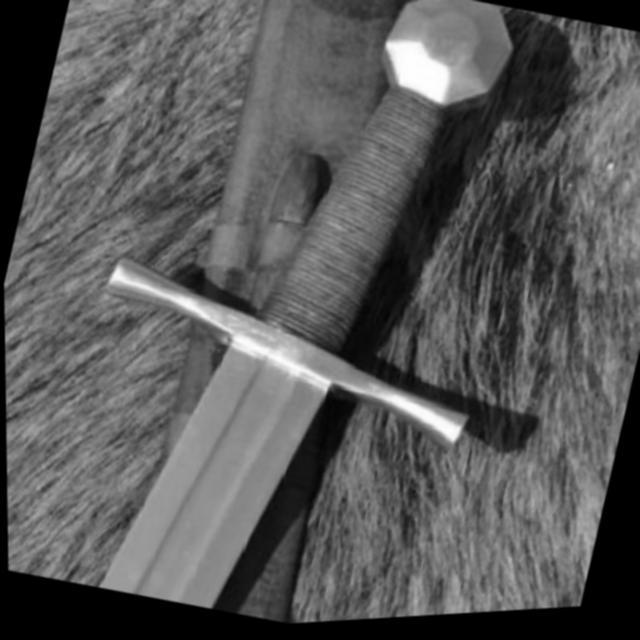weapon: (41, 0, 556, 638)
